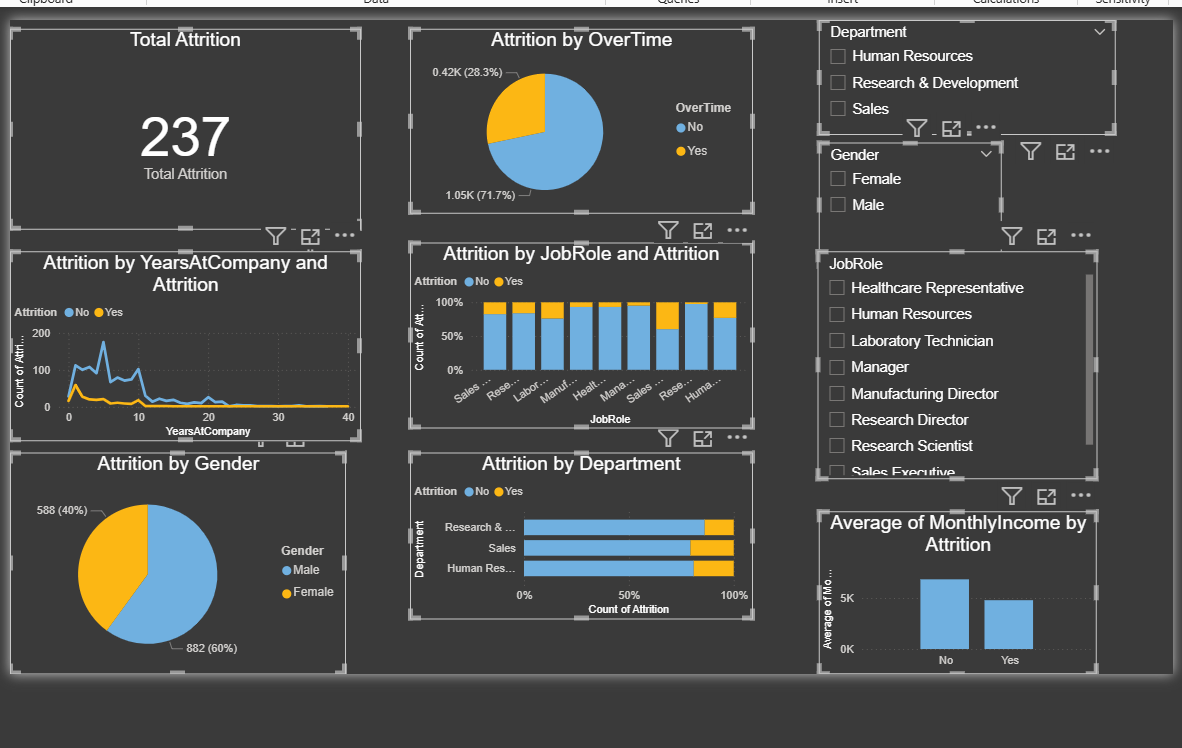

This screenshot's page, from the dashboard's own definition file:
{"tool":"powerbi","page":{"name":"Page 1","canvas":[1280,720],"ordinal":0},"visuals":[{"type":"card","title":"Total Attrition","fields":{"Values":["Employee.Total Attrition"]},"box":[0,1.5,291.1,292.6],"z":0},{"type":"hundredPercentStackedBarChart","title":"Attrition by Department","fields":{"Category":["Employee.Department"],"Y":["CountNonNull(Employee.Attrition)"],"Series":["Employee.Attrition"]},"box":[10.8,311.2,314.3,312.8],"z":1000},{"type":"pieChart","title":"Attrition by Gender","fields":{"Category":["Employee.Gender"],"Y":["CountNonNull(Employee.Attrition)"]},"box":[439.1,223.4,354.4,245],"z":2000},{"type":"lineChart","title":"Attrition by YearsAtCompany and Attrition","fields":{"Category":["Employee.YearsAtCompany"],"Y":["CountNonNull(Employee.Attrition)"],"Series":["Employee.Attrition"]},"box":[340.6,489.3,298.8,210.6],"z":3000},{"type":"hundredPercentStackedColumnChart","title":"Attrition by JobRole and Attrition","fields":{"Category":["Employee.JobRole"],"Y":["CountNonNull(Employee.Attrition)"],"Series":["Employee.Attrition"]},"box":[902.5,208,377.5,206.5],"z":4000},{"type":"pieChart","title":"Attrition by OverTime","fields":{"Category":["Employee.OverTime"],"Y":["CountNonNull(Employee.Attrition)"]},"box":[291.1,1.5,367,202.8],"z":5000},{"type":"clusteredColumnChart","fields":{"Category":["Employee.Attrition"],"Y":["Avg(Employee.MonthlyIncome)"]},"box":[644.1,537.3,253.9,150.2],"z":6000},{"type":"slicer","fields":{"Values":["Employee.Department"]},"box":[886.7,1.5,393.3,204.4],"z":7000},{"type":"slicer","fields":{"Values":["Employee.Gender"]},"box":[699.5,126.3,203.4,137.1],"z":8000},{"type":"slicer","fields":{"Values":["Employee.JobRole"]},"box":[952.1,456,305.1,263.5],"z":9000}]}

Visuals, with their boxes on the page's 1280x720 design canvas (x1, y1, x2, y2). These are canvas units, not pixel positions in the 1182x748 screenshot, which may show the page scaled, cropped or inside an application window:
"Total Attrition" card: {"x1": 0, "y1": 2, "x2": 291, "y2": 294}
"Attrition by Department" hundredPercentStackedBarChart: {"x1": 11, "y1": 311, "x2": 325, "y2": 624}
"Attrition by Gender" pieChart: {"x1": 439, "y1": 223, "x2": 794, "y2": 468}
"Attrition by YearsAtCompany and Attrition" lineChart: {"x1": 341, "y1": 489, "x2": 639, "y2": 700}
"Attrition by JobRole and Attrition" hundredPercentStackedColumnChart: {"x1": 902, "y1": 208, "x2": 1280, "y2": 414}
"Attrition by OverTime" pieChart: {"x1": 291, "y1": 2, "x2": 658, "y2": 204}
clusteredColumnChart - Employee.Attrition x Avg(Employee.MonthlyIncome): {"x1": 644, "y1": 537, "x2": 898, "y2": 688}
slicer - Employee.Department: {"x1": 887, "y1": 2, "x2": 1280, "y2": 206}
slicer - Employee.Gender: {"x1": 700, "y1": 126, "x2": 903, "y2": 263}
slicer - Employee.JobRole: {"x1": 952, "y1": 456, "x2": 1257, "y2": 720}
